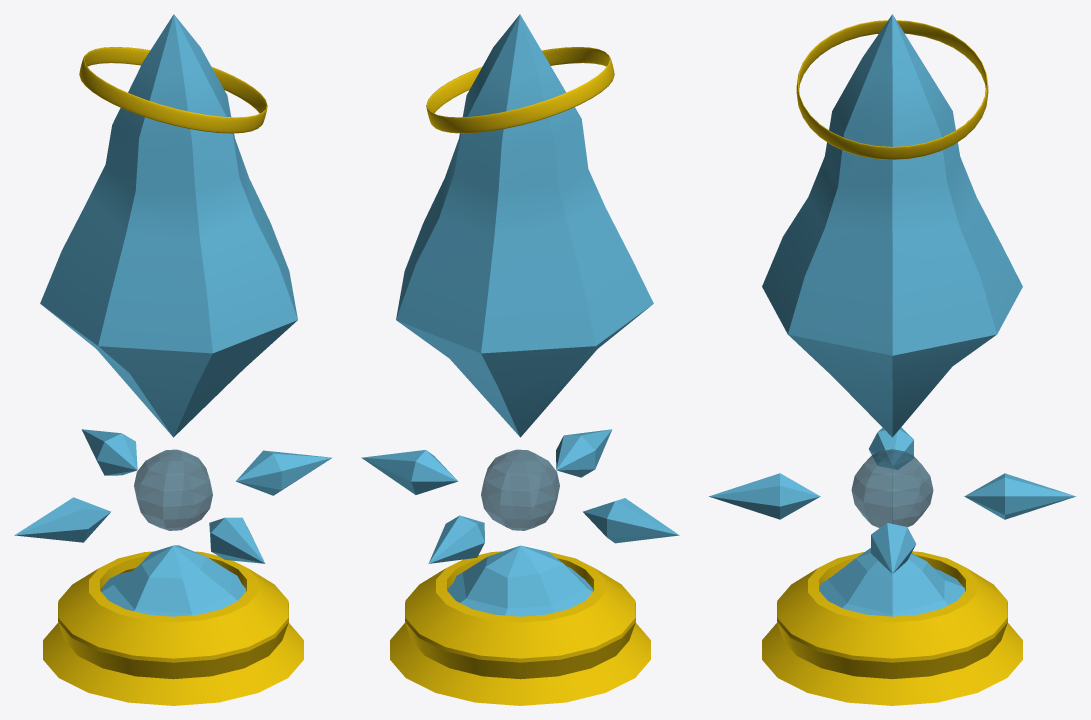
File: Crystal Altar.fbx
3 renders of one model, left to right at view 1: azimuth 30°, elevation 25°; view 2: azimuth 150°, elevation 25°; view 3: azimuth 270°, elevation 25°, orthographic.
Visible parts, largest first — view 1: polySurface2; view 2: polySurface2; view 3: polySurface2.
Part boxes in pixels (x1,y1,x2,y2): polySurface2: (14, 14, 332, 705); polySurface2: (361, 14, 679, 705); polySurface2: (708, 14, 1076, 705).
Size of the model in its own units: 154 by 294 by 154.
